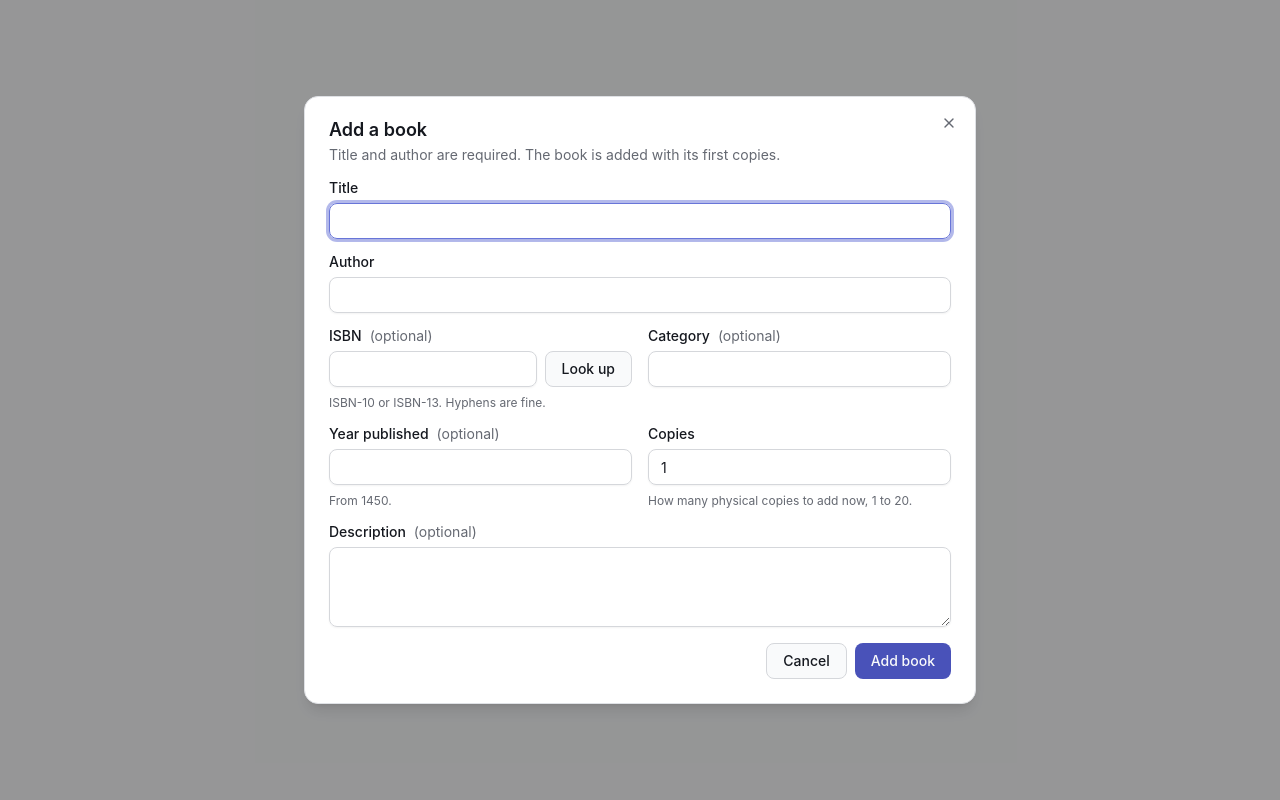
Scenario: BookFormDialog › maps a server 422 onto the matching fields and shows the rest above the form
Type "Dune" into the field labelled "Title" at (640, 221), box x1=329 y1=203 x2=951 y2=239
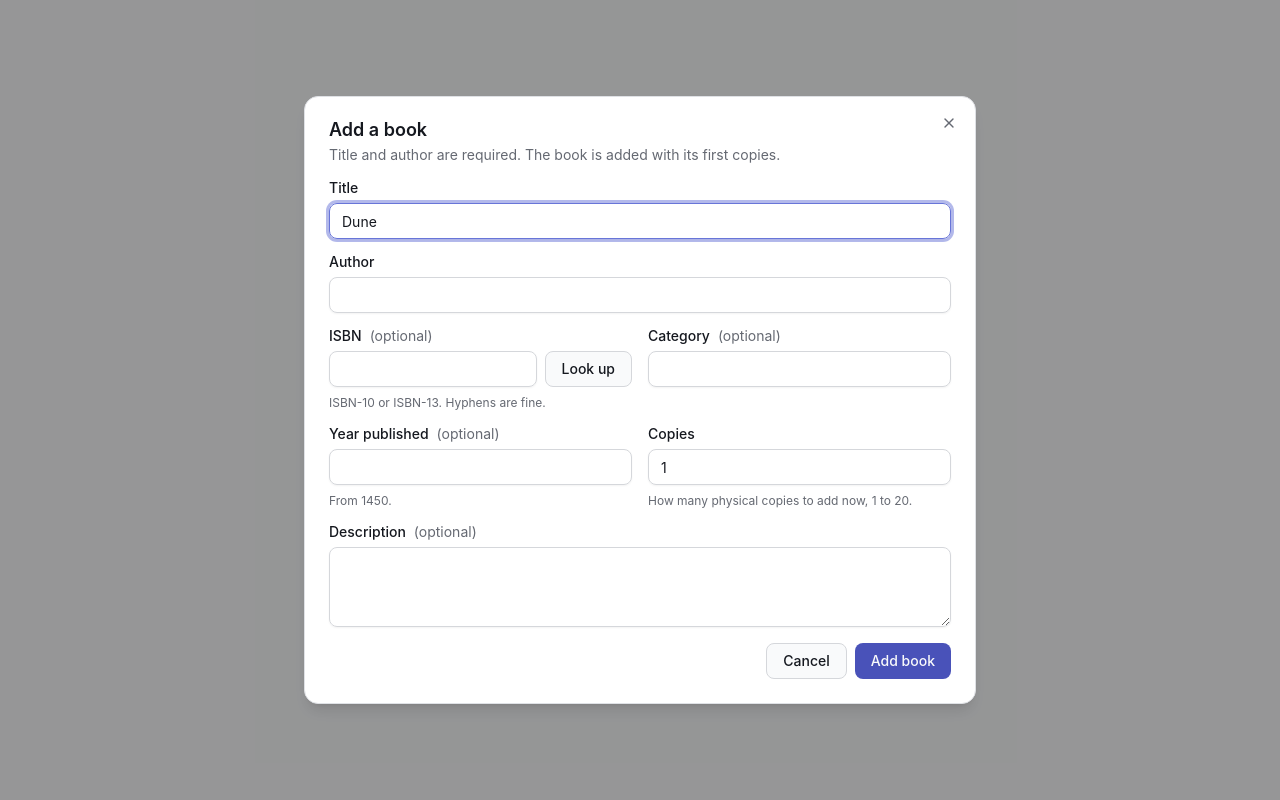
Type "Frank Herbert" into the field labelled "Author" at (640, 295), box x1=329 y1=277 x2=951 y2=313
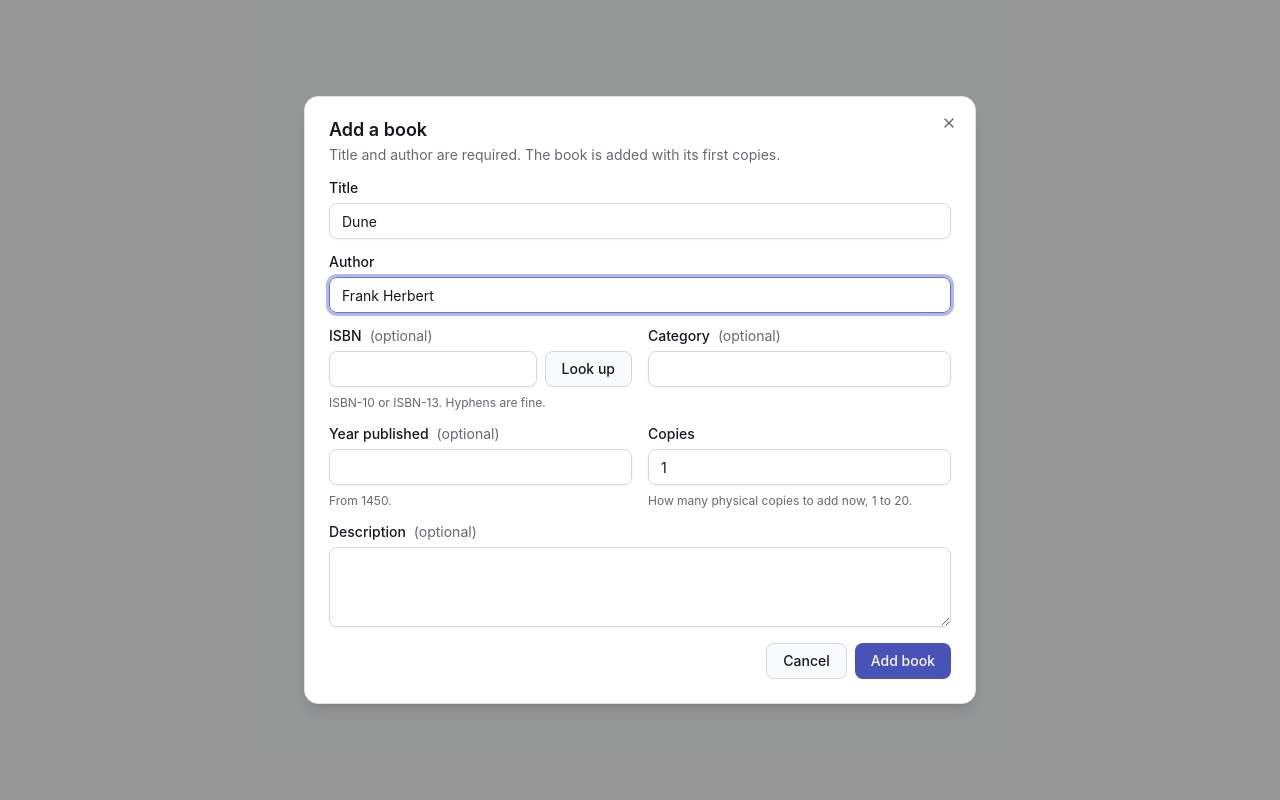
Click the button "Add book" at (903, 661), box x1=855 y1=643 x2=951 y2=679
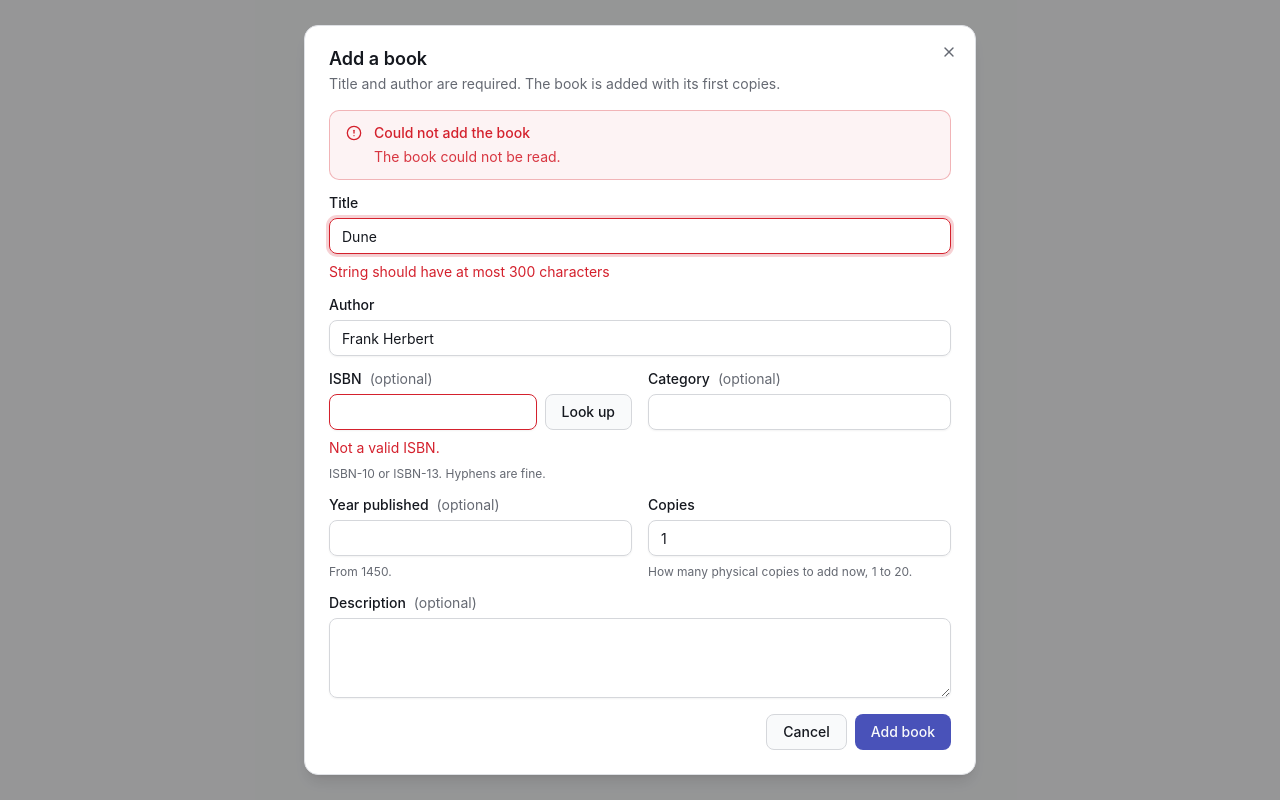
Expected: the text "String should have at most 300 characters" is shown, x1=329 y1=263 x2=610 y2=280
Expected: the text "Not a valid ISBN." is shown, x1=329 y1=439 x2=440 y2=456
Expected: the message shows "The book could not be read.", x1=374 y1=148 x2=561 y2=165
